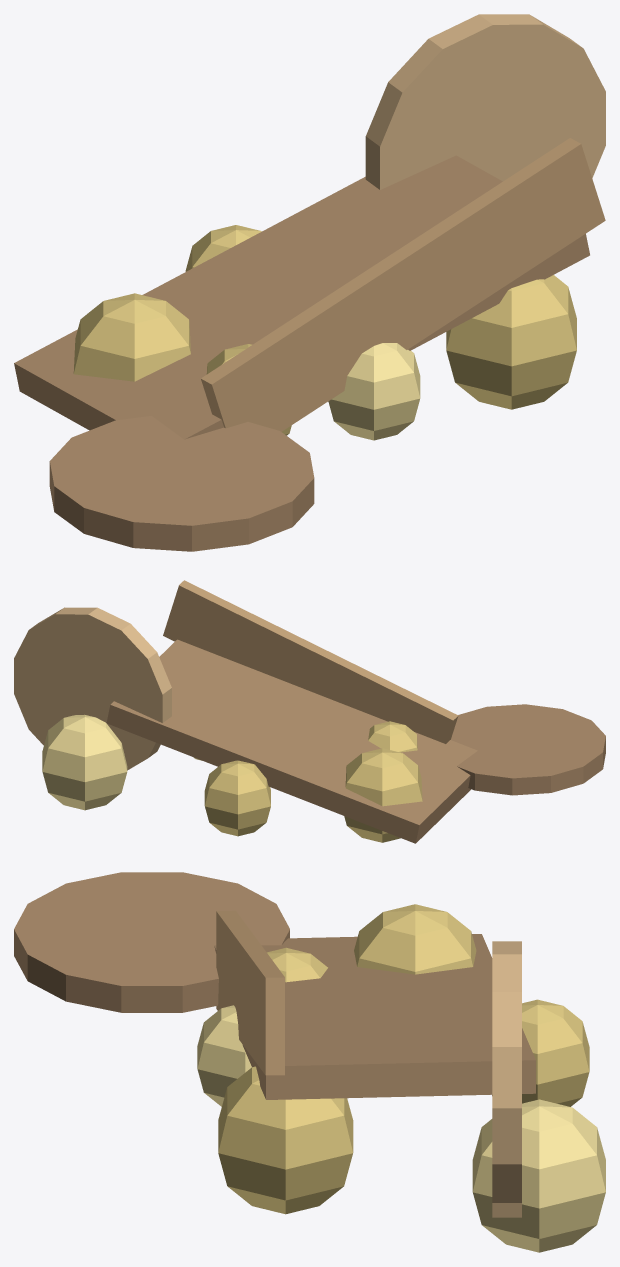
Rendered from ws_ruin_camp_cart.glb.
The picture shows the model from 3 angles, top to bottom: view 1: azimuth 30°, elevation 25°; view 2: azimuth 150°, elevation 25°; view 3: azimuth 270°, elevation 25°; orthographic projection. The views are drawn at different scales.
Visible parts, largest first — view 1: ws_ruin_camp_cart; view 2: ws_ruin_camp_cart; view 3: ws_ruin_camp_cart.
Boxes of the visible parts, x1=… form: ws_ruin_camp_cart: x1=14, y1=14, x2=605, y2=551; ws_ruin_camp_cart: x1=14, y1=580, x2=605, y2=843; ws_ruin_camp_cart: x1=14, y1=872, x2=605, y2=1252.
Bounding box in the file's own units: 1.7 × 0.658 × 1.2.
